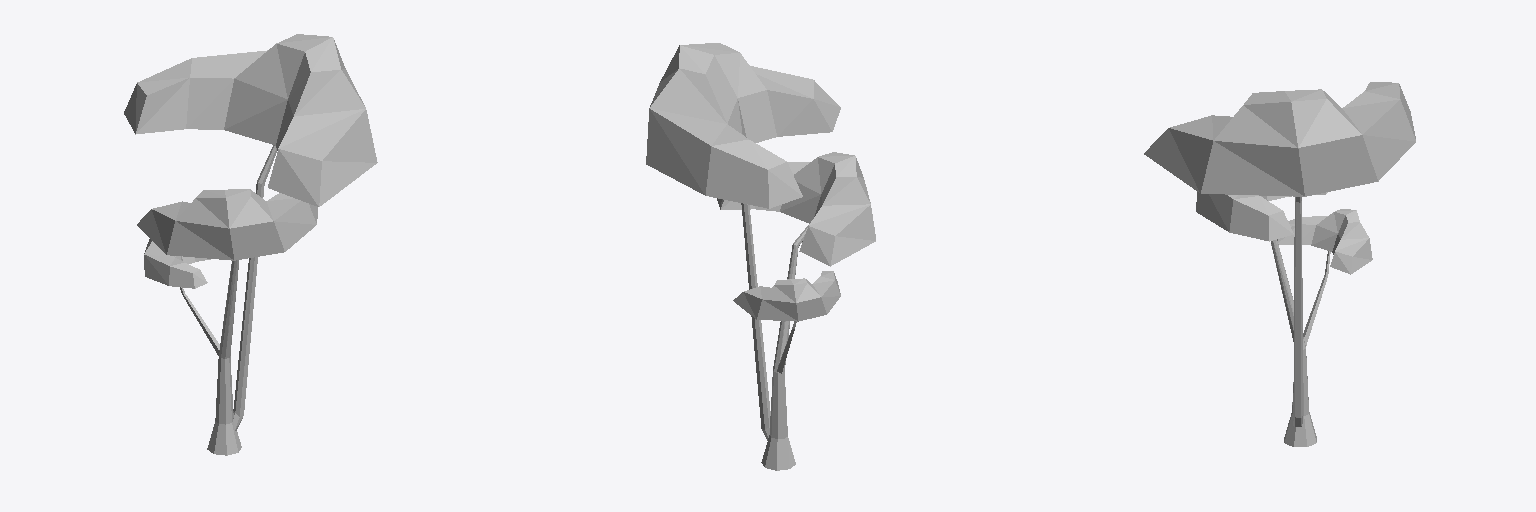
Rendered from fat_bottomed_tree.obj.
3 views of the same model, side by side, from view 1: azimuth 30°, elevation 25°; view 2: azimuth 150°, elevation 25°; view 3: azimuth 270°, elevation 25° (orthographic).
Visible parts, largest first — view 1: root_Circle.002; view 2: root_Circle.002; view 3: root_Circle.002.
Boxes of the visible parts, x1,y1,x2,y2 form: root_Circle.002: [124, 34, 377, 455]; root_Circle.002: [646, 43, 875, 470]; root_Circle.002: [1144, 82, 1415, 446].
Bounding box in the file's own units: 26.64 × 50.1 × 31.82.